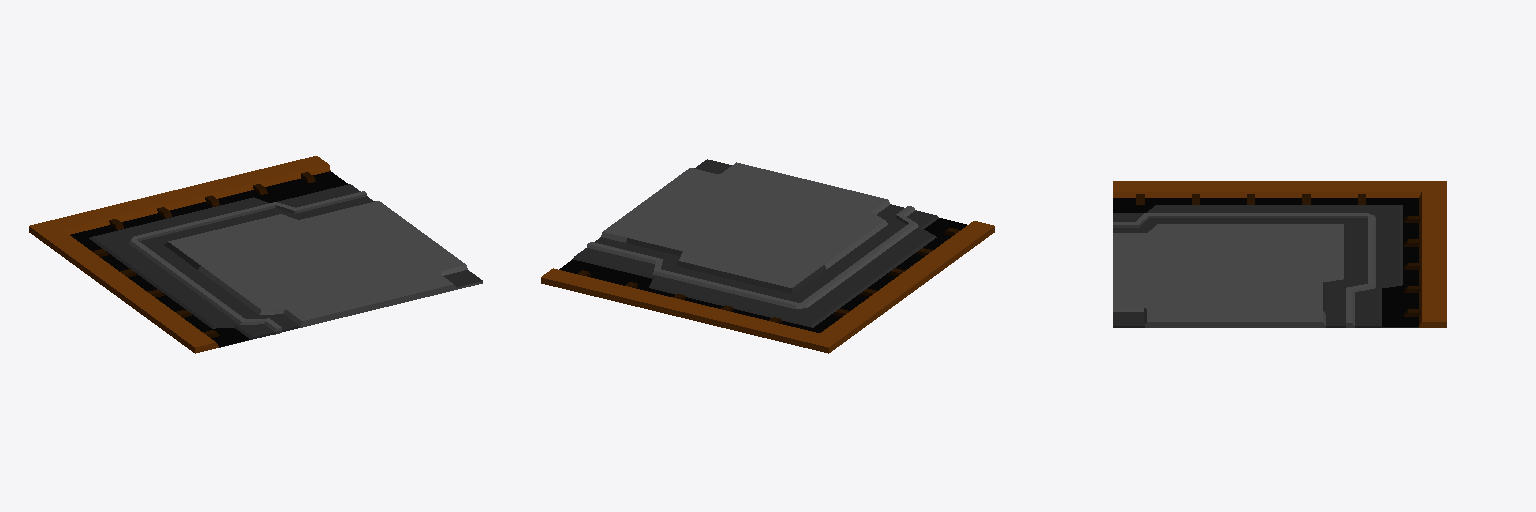
Rendered from FloorTile_Corner.obj.
3 renders of one model, left to right at view 1: azimuth 30°, elevation 25°; view 2: azimuth 150°, elevation 25°; view 3: azimuth 270°, elevation 25°, orthographic.
Parts seen in each view (by area): view 1: FloorTile_Corner_Plane.250; view 2: FloorTile_Corner_Plane.250; view 3: FloorTile_Corner_Plane.250.
Boxes of the visible parts, x1,y1,x2,y2 form: FloorTile_Corner_Plane.250: [29, 156, 482, 353]; FloorTile_Corner_Plane.250: [541, 159, 994, 353]; FloorTile_Corner_Plane.250: [1113, 181, 1446, 327].
Size of the model in its own units: 2 by 0.0615 by 2.